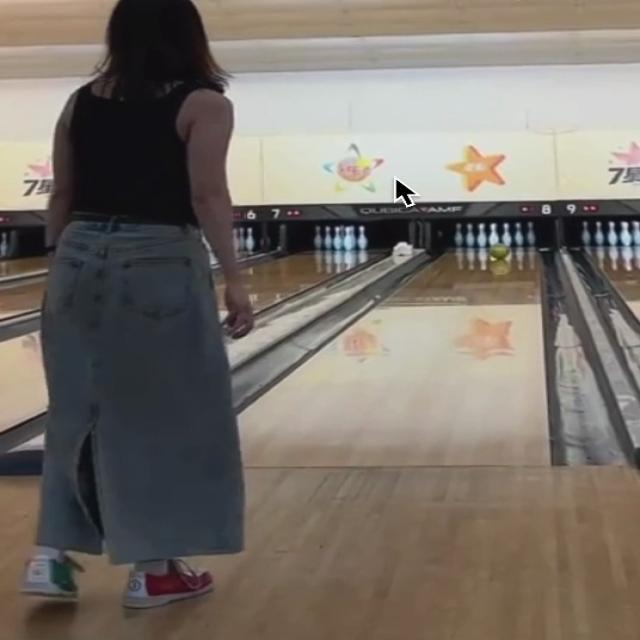alley: (242, 248, 547, 464)
balls: (491, 243, 509, 259)
bottle: (454, 222, 534, 249)
